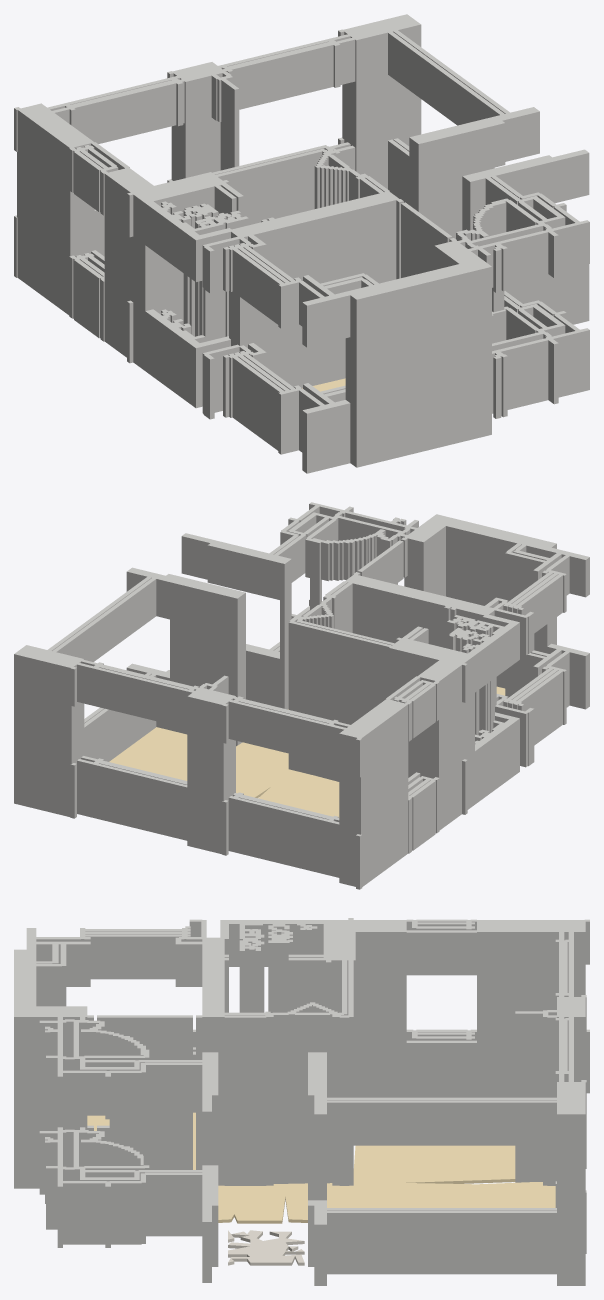
3 renders of one model, top to bottom at view 1: azimuth 30°, elevation 25°; view 2: azimuth 150°, elevation 25°; view 3: azimuth 270°, elevation 25°, orthographic. The views are drawn at different scales.
Parts seen in each view (by area): view 1: walls; view 2: walls, room:living:0; view 3: walls, room:living:0, room:other:3.
Part boxes in pixels (x1,y1,x2,y2): walls: [14, 14, 589, 473]; walls: [14, 502, 589, 889]; room:living:0: [109, 686, 505, 817]; walls: [14, 918, 589, 1285]; room:living:0: [87, 1112, 555, 1223]; room:other:3: [228, 1230, 304, 1265].
Bounding box in the file's own units: 6.87 × 2.8 × 8.52.
